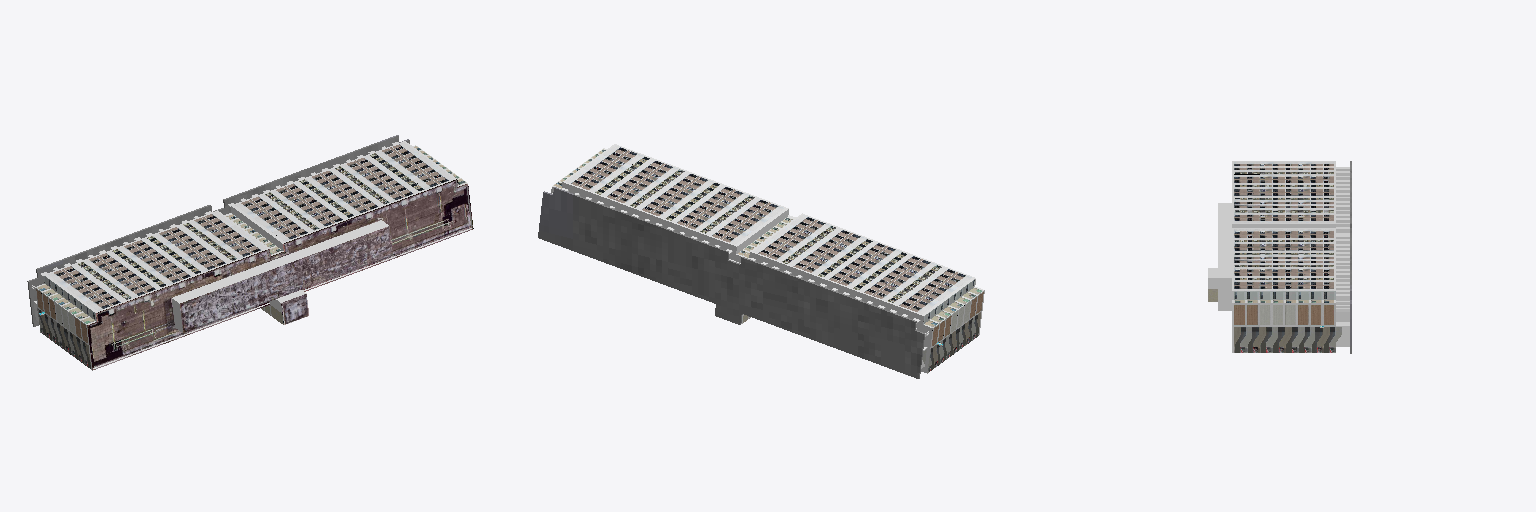
3 renders of one model, left to right at view 1: azimuth 30°, elevation 25°; view 2: azimuth 150°, elevation 25°; view 3: azimuth 270°, elevation 25°, orthographic.
Visible parts, largest first — view 1: polygon.836; view 2: polygon.836; view 3: polygon.836.
Boxes of the visible parts, box(x1,y1,x2,y2) form: polygon.836: box(27, 135, 473, 370); polygon.836: box(538, 144, 984, 378); polygon.836: box(1208, 161, 1351, 353).
Bounding box in the file's own units: 99.33 × 24.93 × 31.88.
1 materials, 1 textured.